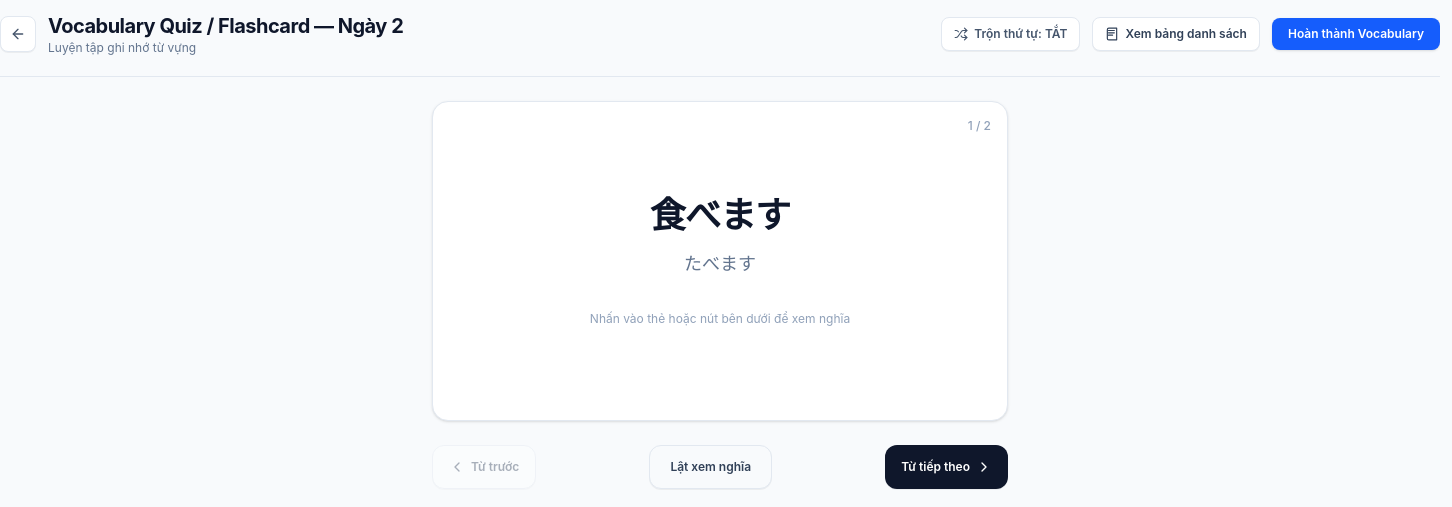
Test: Milestone F5 — Vocabulary Real Interaction Tests › renders flashcard and flips to show meaning and examples
The image size is (1452, 507).
Expected: the text "食べます" is shown, [650, 193, 790, 237]
Click flip button
Click the button "Lật xem nghĩa".
click(711, 467)  # box [649, 445, 772, 489]
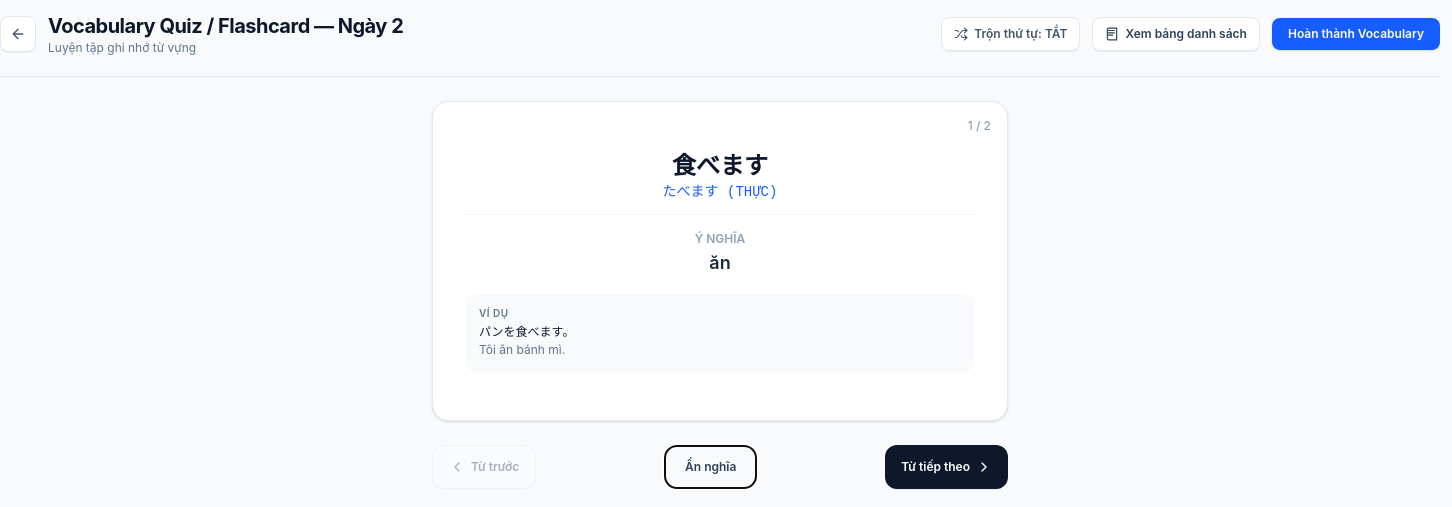
Result: the text "ăn" is shown at [709, 252, 731, 273]
Result: the text "Tôi ăn bánh mì." is shown at [479, 342, 565, 357]
Result: the button "Ẩn nghĩa" is shown at [664, 445, 757, 489]
